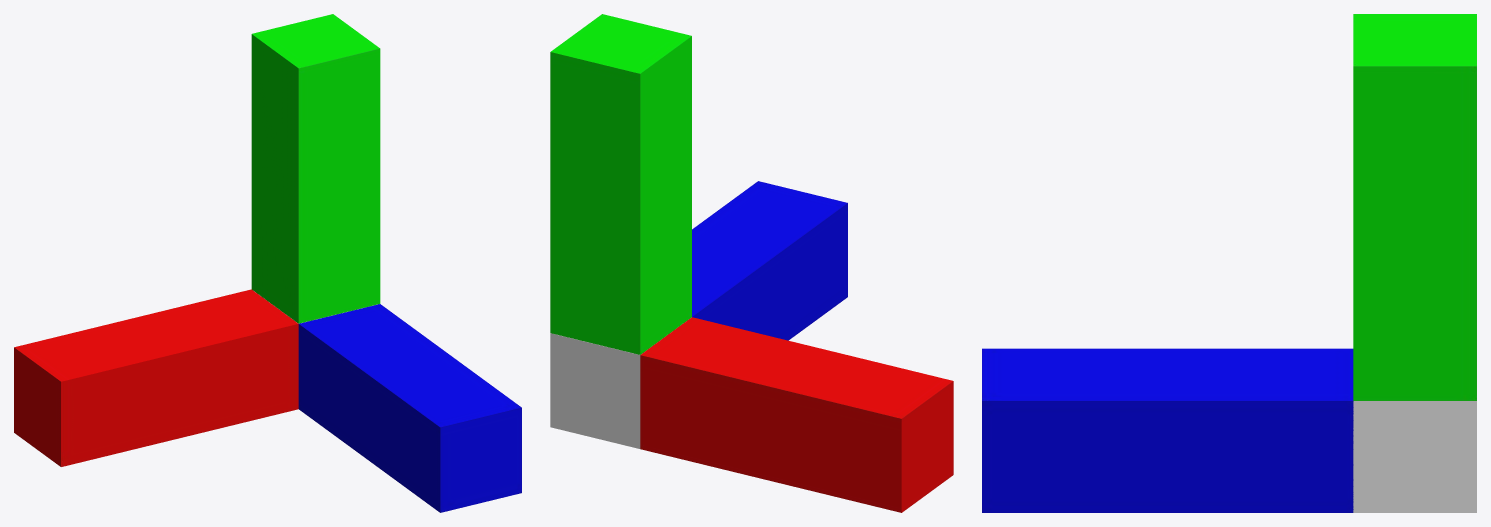
The model's file is axis.obj.
The picture shows the model from 3 angles, left to right: view 1: azimuth 30°, elevation 25°; view 2: azimuth 150°, elevation 25°; view 3: azimuth 270°, elevation 25°; orthographic projection. The views are drawn at different scales.
Visible parts, largest first — view 1: Cube.001; view 2: Cube.001; view 3: Cube.001.
Boxes of the visible parts, bbox=[...] form: Cube.001: bbox=[14, 14, 521, 512]; Cube.001: bbox=[550, 14, 953, 512]; Cube.001: bbox=[982, 14, 1476, 512].
Bounding box in the file's own units: 2.35 × 2.39 × 2.4.
1 material, 1 textured.
